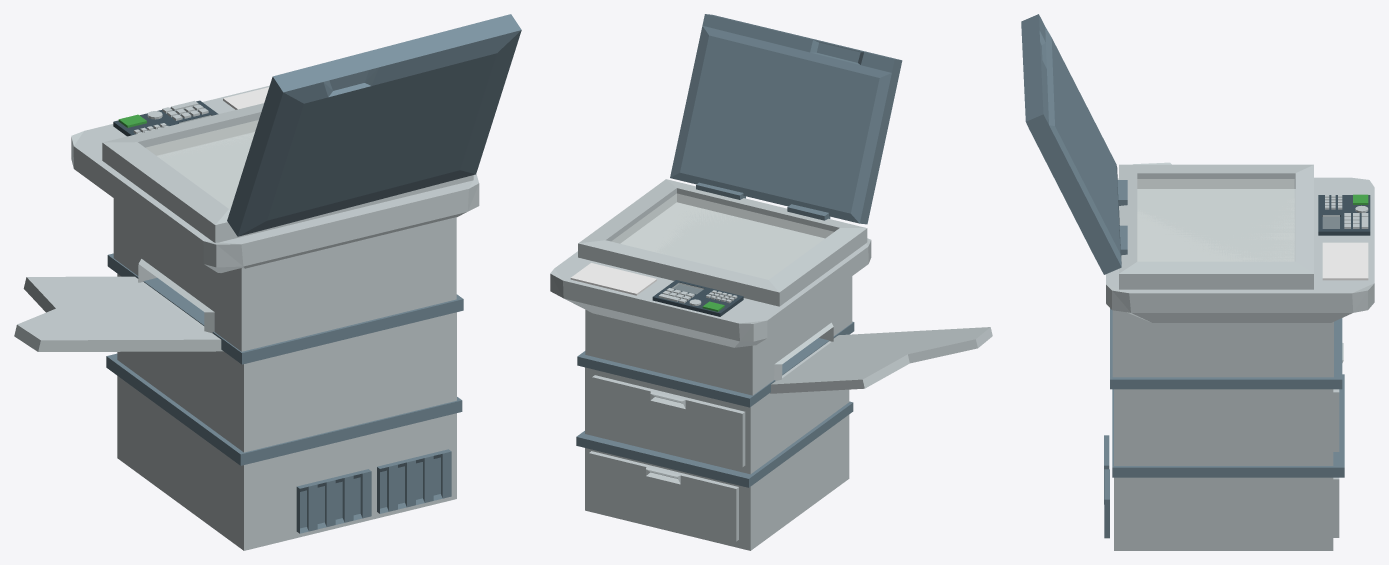
The model's file is Office PrinterCopier.glb.
3 renders of one model, left to right at view 1: azimuth 30°, elevation 25°; view 2: azimuth 150°, elevation 25°; view 3: azimuth 270°, elevation 25°, orthographic. The views are drawn at different scales.
Visible parts, largest first — view 1: Node; view 2: Node; view 3: Node.
Boxes of the visible parts, bbox=[...] form: Node: bbox=[14, 14, 521, 550]; Node: bbox=[550, 14, 992, 550]; Node: bbox=[1021, 14, 1374, 550].
Bounding box in the file's own units: 2.02 × 2.25 × 1.63.
